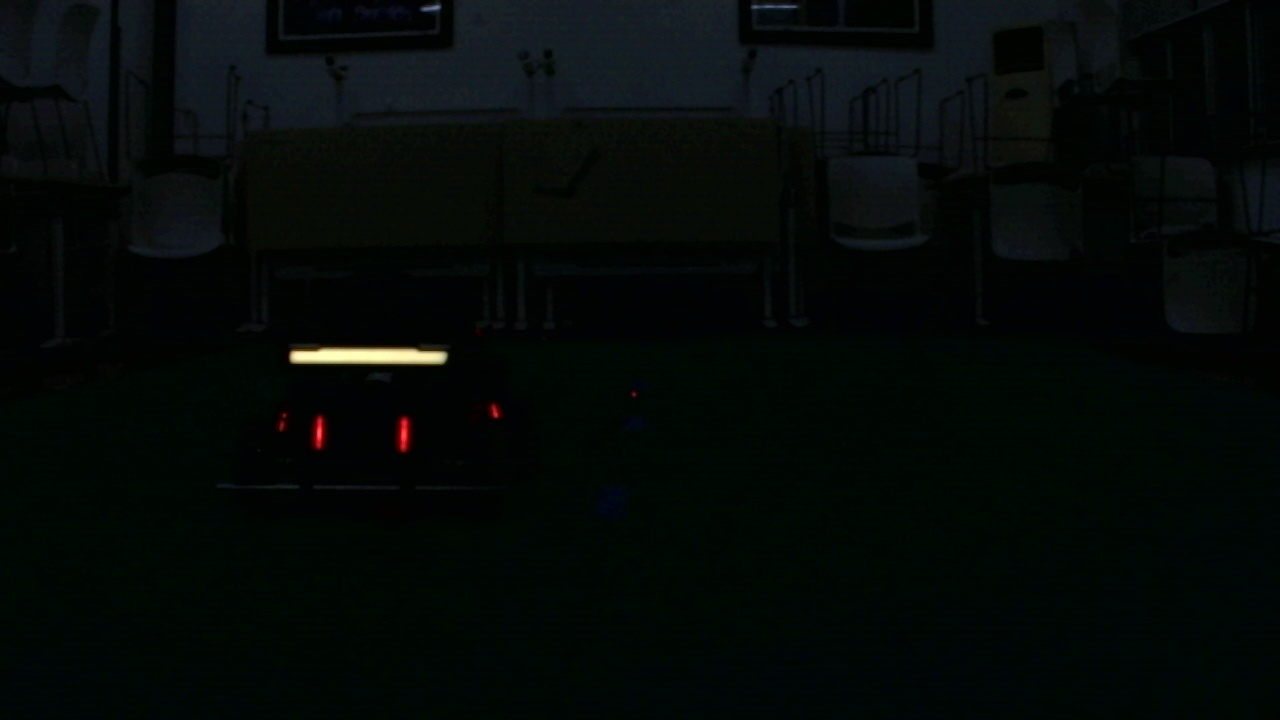lamp: (395, 415, 409, 455), (314, 409, 325, 453)
pair1: (314, 413, 410, 453)
